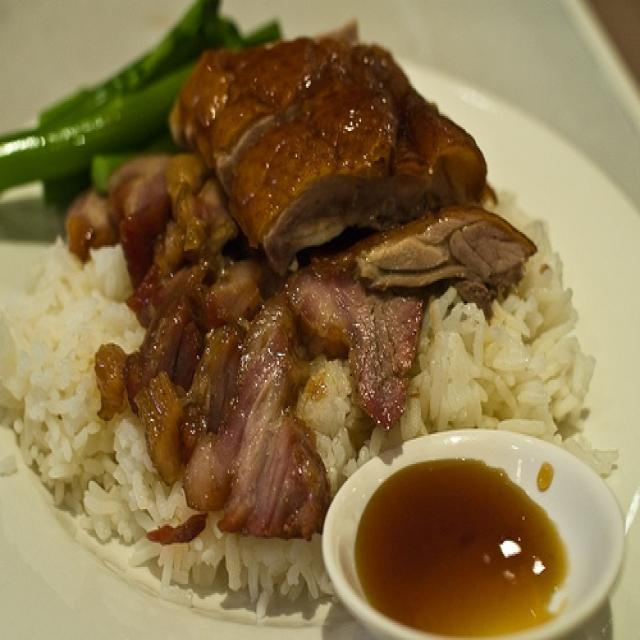烧串烤肉: (22, 21, 626, 616)
